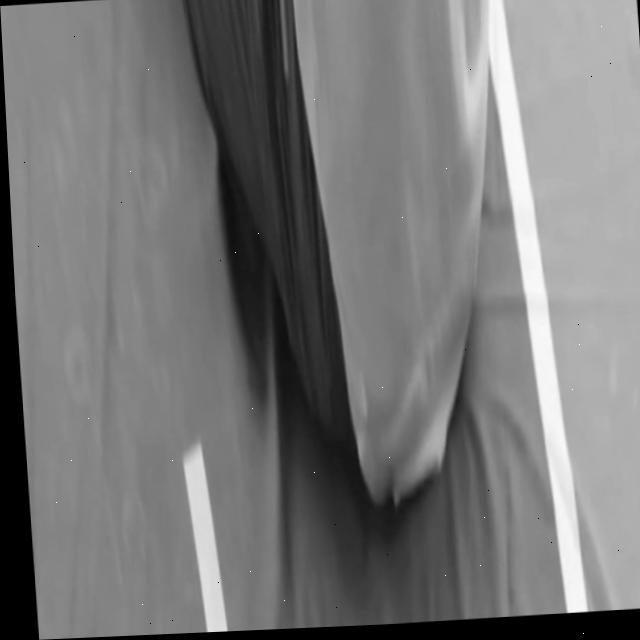center: (183, 442, 227, 632)
right: (488, 0, 586, 613)
